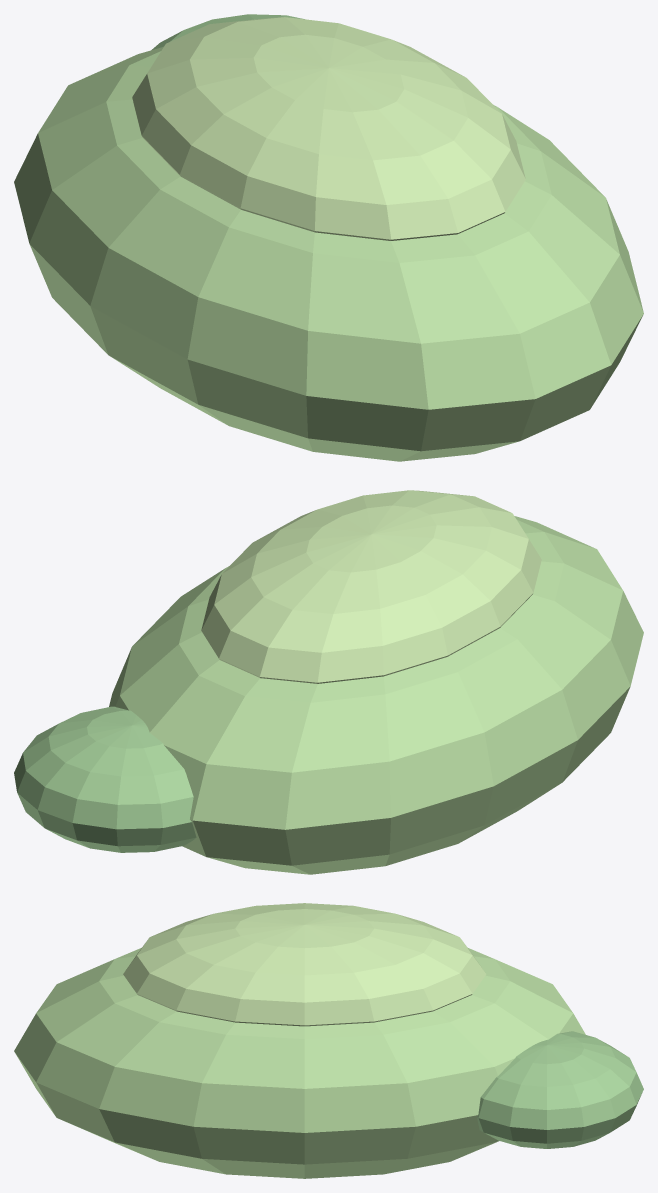
File: BurrowHill.glb
3 renders of one model, top to bottom at view 1: azimuth 30°, elevation 25°; view 2: azimuth 150°, elevation 25°; view 3: azimuth 270°, elevation 25°, orthographic. The views are drawn at different scales.
Visible parts, largest first — view 1: BurrowHill_1, BurrowHill_2, BurrowHill_0; view 2: BurrowHill_1, BurrowHill_2, BurrowHill_0; view 3: BurrowHill_1, BurrowHill_2, BurrowHill_0.
Boxes of the visible parts, bbox=[...] form: BurrowHill_1: bbox=[14, 47, 643, 461]; BurrowHill_2: bbox=[132, 17, 525, 240]; BurrowHill_0: bbox=[151, 14, 304, 50]; BurrowHill_1: bbox=[109, 516, 643, 874]; BurrowHill_2: bbox=[201, 490, 541, 683]; BurrowHill_0: bbox=[14, 706, 196, 852]; BurrowHill_1: bbox=[14, 947, 585, 1178]; BurrowHill_2: bbox=[123, 903, 486, 1026]; BurrowHill_0: bbox=[477, 1031, 643, 1148].
Size of the model in its own units: 32 by 20.5 by 52.
